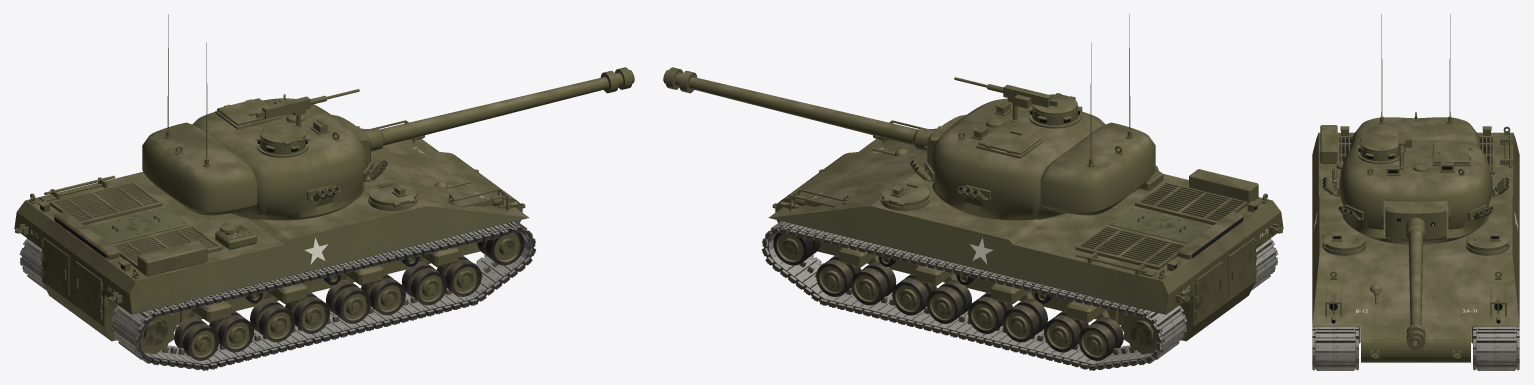
The model's file is M12A2_stage3.glb.
The picture shows the model from 3 angles, left to right: view 1: azimuth 30°, elevation 25°; view 2: azimuth 150°, elevation 25°; view 3: azimuth 270°, elevation 25°; orthographic projection. The views are drawn at different scales.
Visible parts, largest first — view 1: M12A2_Hull, M12A2_Turret, M12A2_Turret_Bustle, M12A2_Barrel, M12A2_CoolingGrille_L, M12A2_EngineAccessPanel, M12A2_CoolingGrille_R, M12A2_StowageBox, M12A2_RoadWheel_R3b, M12A2_RoadWheel_R4b, M12A2_RoadWheel_R2b, M12A2_RoadWheel_R1b (+21 smaller); view 2: M12A2_Hull, M12A2_Turret, M12A2_Turret_Bustle, M12A2_Barrel, M12A2_CoolingGrille_L, M12A2_CoolingGrille_R, M12A2_EngineAccessPanel, M12A2_StowageBox, M12A2_RoadWheel_L3b, M12A2_RoadWheel_L4b, M12A2_RoadWheel_L2b, M12A2_RoadWheel_L1b (+19 smaller); view 3: M12A2_Hull, M12A2_Turret, M12A2_Turret_Bustle, M12A2_Mantlet, M12A2_Barrel, M12A2_HatchLid_loader, M12A2_HatchLid_bow_gunner, M12A2_HatchLid_driver, M12A2_StowageBox, M12A2_Cupola_Lid, M12A2_Cupola, M12A2_TrackLink_L_041 (+24 smaller).
Boxes of the visible parts, x1=… form: M12A2_Hull: x1=14, y1=128, x2=529, y2=341; M12A2_Turret: x1=192, y1=98, x2=367, y2=220; M12A2_Turret_Bustle: x1=142, y1=122, x2=257, y2=215; M12A2_Barrel: x1=363, y1=67, x2=634, y2=151; M12A2_CoolingGrille_L: x1=49, y1=181, x2=162, y2=224; M12A2_EngineAccessPanel: x1=87, y1=207, x2=188, y2=244; M12A2_CoolingGrille_R: x1=112, y1=225, x2=222, y2=268; M12A2_StowageBox: x1=137, y1=241, x2=207, y2=276; M12A2_RoadWheel_R3b: x1=250, y1=298, x2=295, y2=342; M12A2_RoadWheel_R4b: x1=174, y1=317, x2=219, y2=360; M12A2_RoadWheel_R2b: x1=326, y1=280, x2=371, y2=323; M12A2_RoadWheel_R1b: x1=401, y1=261, x2=446, y2=305; M12A2_Hull: x1=768, y1=128, x2=1283, y2=341; M12A2_Turret: x1=930, y1=98, x2=1105, y2=220; M12A2_Turret_Bustle: x1=1040, y1=122, x2=1155, y2=215; M12A2_Barrel: x1=663, y1=67, x2=934, y2=151; M12A2_CoolingGrille_L: x1=1075, y1=225, x2=1185, y2=270; M12A2_CoolingGrille_R: x1=1135, y1=181, x2=1247, y2=224; M12A2_EngineAccessPanel: x1=1109, y1=207, x2=1210, y2=244; M12A2_StowageBox: x1=1189, y1=169, x2=1258, y2=203; M12A2_RoadWheel_L3b: x1=1002, y1=298, x2=1047, y2=342; M12A2_RoadWheel_L4b: x1=1078, y1=317, x2=1123, y2=360; M12A2_RoadWheel_L2b: x1=926, y1=280, x2=971, y2=323; M12A2_RoadWheel_L1b: x1=851, y1=261, x2=896, y2=305; M12A2_Hull: x1=1312, y1=132, x2=1519, y2=362; M12A2_Turret: x1=1339, y1=140, x2=1492, y2=243; M12A2_Turret_Bustle: x1=1351, y1=117, x2=1480, y2=148; M12A2_Mantlet: x1=1385, y1=200, x2=1446, y2=240; M12A2_Barrel: x1=1406, y1=217, x2=1425, y2=350; M12A2_HatchLid_loader: x1=1432, y1=143, x2=1470, y2=163; M12A2_HatchLid_bow_gunner: x1=1323, y1=230, x2=1365, y2=251; M12A2_HatchLid_driver: x1=1466, y1=230, x2=1508, y2=251; M12A2_StowageBox: x1=1320, y1=125, x2=1337, y2=163; M12A2_Cupola_Lid: x1=1360, y1=134, x2=1398, y2=152; M12A2_Cupola: x1=1356, y1=143, x2=1399, y2=164; M12A2_TrackLink_L_041: x1=1473, y1=330, x2=1519, y2=342.
Bounding box in the file's own units: 10.2 × 5 × 3.65.
Materials: 7 (4 with a texture image).
